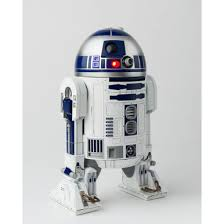r2d2: (47, 26, 168, 215)
